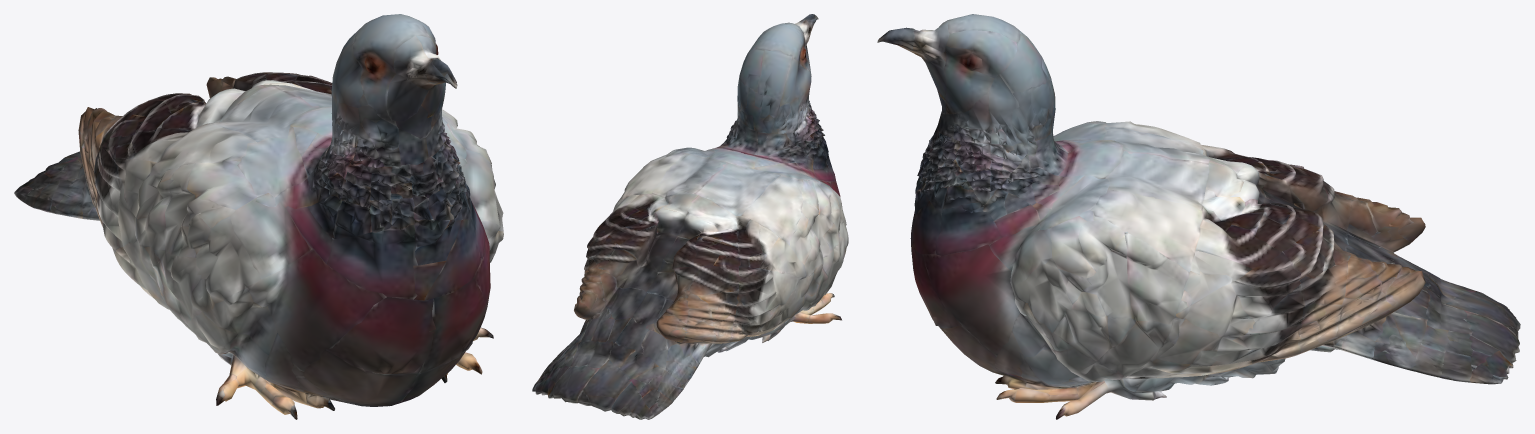
The model's file is kit_izmir_pigeon_walking.glb.
3 renders of one model, left to right at view 1: azimuth 30°, elevation 25°; view 2: azimuth 150°, elevation 25°; view 3: azimuth 270°, elevation 25°, orthographic. The views are drawn at different scales.
Parts seen in each view (by area): view 1: Mesh_0.001; view 2: Mesh_0.001; view 3: Mesh_0.001.
Part boxes in pixels (left/top/right/bottom): Mesh_0.001: left=14, top=14, right=503, bottom=419; Mesh_0.001: left=532, top=14, right=848, bottom=419; Mesh_0.001: left=877, top=14, right=1520, bottom=419.
Bounding box in the file's own units: 0.2832 × 0.34 × 0.5595.
1 material, 1 textured.
